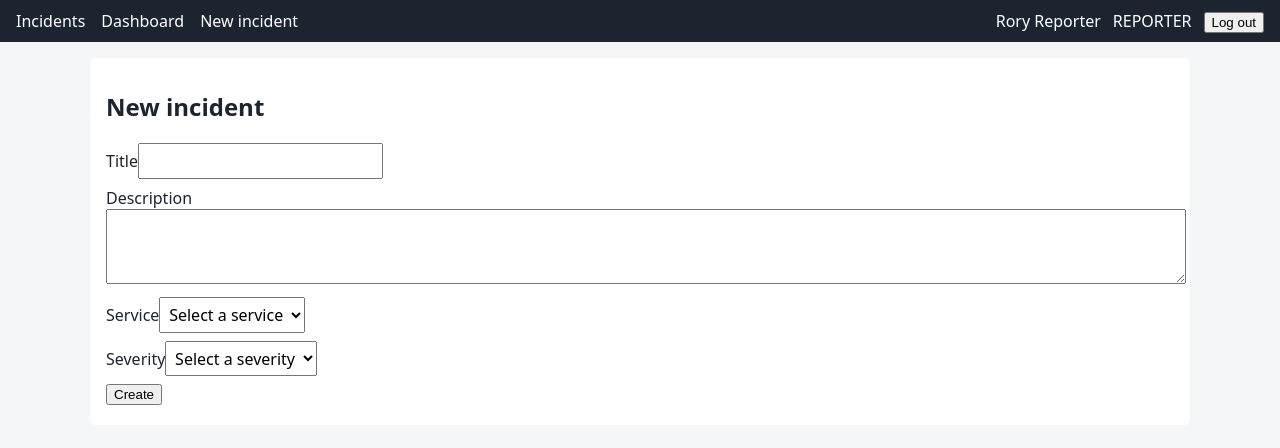
Scenario: create incident page › maps server 422 field errors to error-* and business rules to form-error
Step 1. Type "Gateway down" into the field with test id "new-title" → (260, 161), box [138,143,383,179]
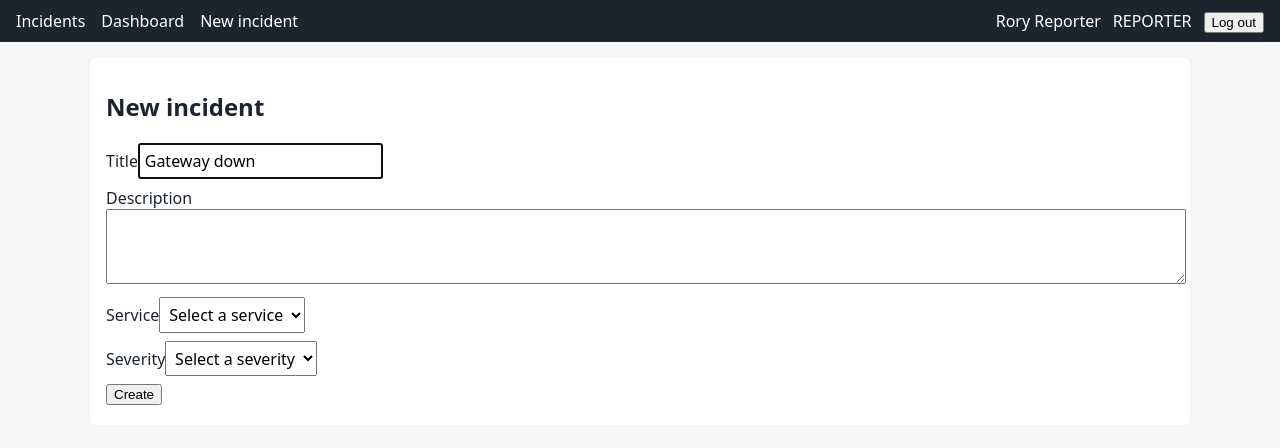
Step 2. Select "API Gateway" in the dropdown with test id "new-service" → (232, 315), box [159,297,305,333]
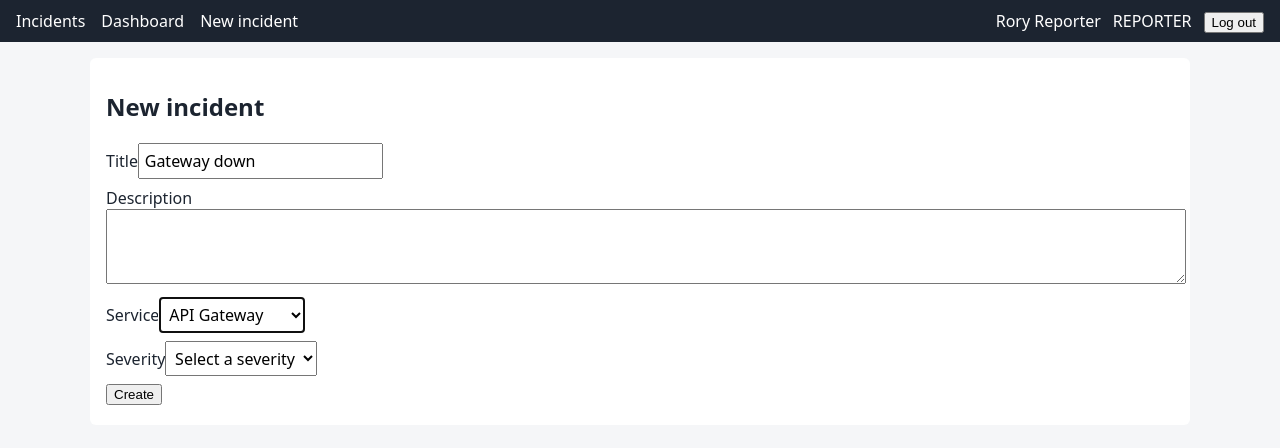
Step 3. Select "SEV2" in the dropdown with test id "new-severity" → (241, 359), box [165,341,317,376]
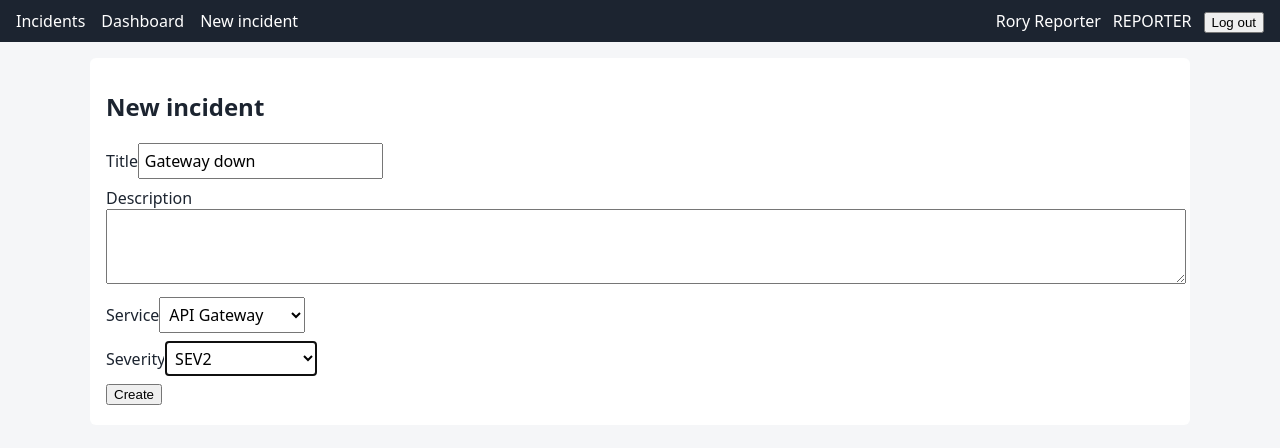
Step 4. Click the button with test id "new-submit" → click(134, 395), box [106,384,162,405]
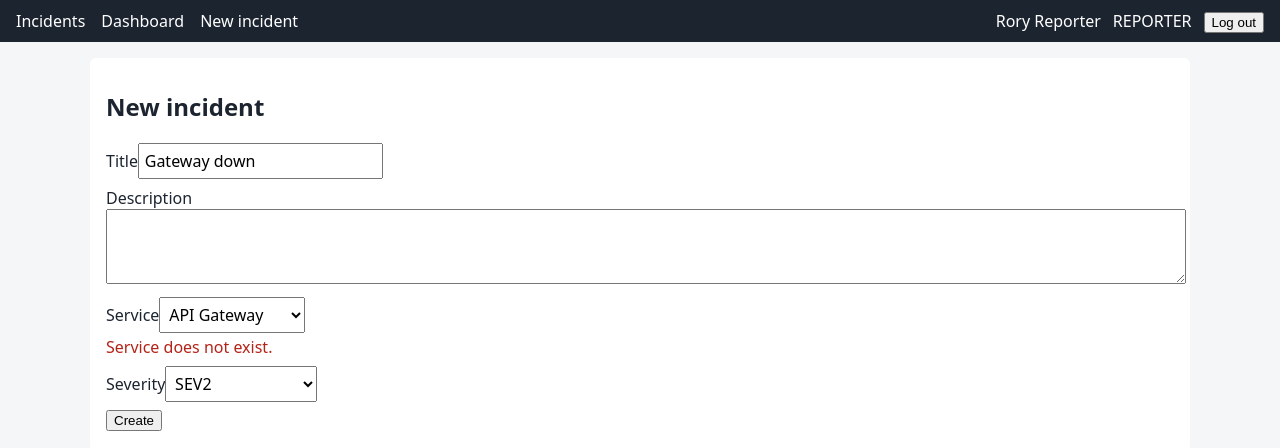
Now the text with test id "error-serviceId" reads "Service does not exist.", box [106,336,272,358]
Step 5. Click the button with test id "new-submit" → click(134, 420), box [106,410,162,431]
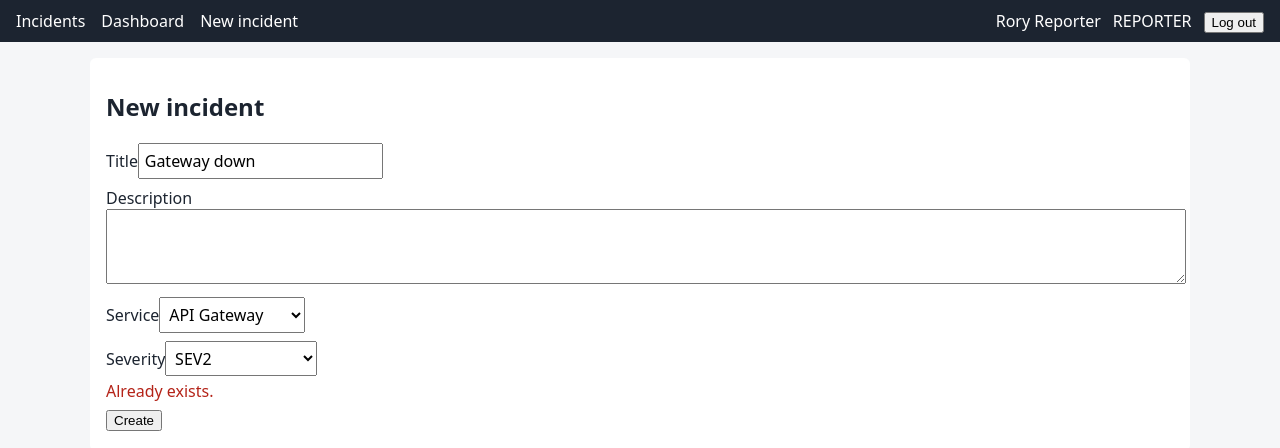
Now the text with test id "form-error" reads "Already exists.", box [106,380,214,402]
Now the text with test id "error-serviceId" is gone
